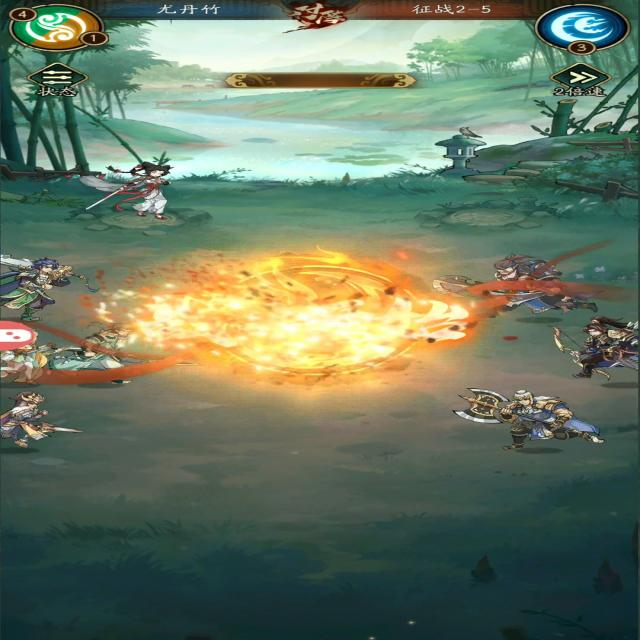operation-fightspeed: (516, 55, 628, 107)
operation-status: (26, 57, 93, 105)
